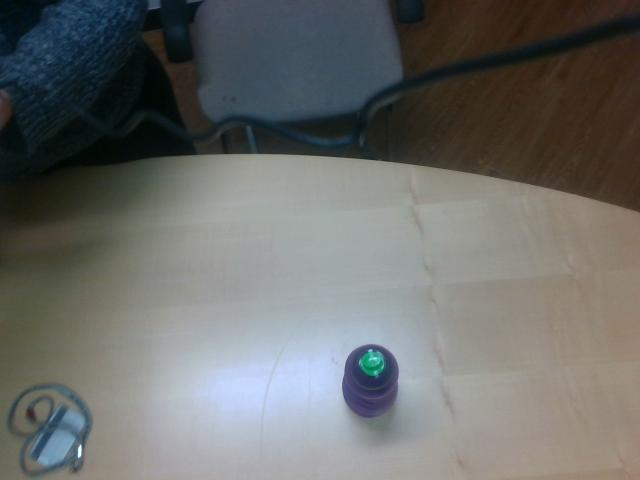bottle: (341, 345, 400, 418)
